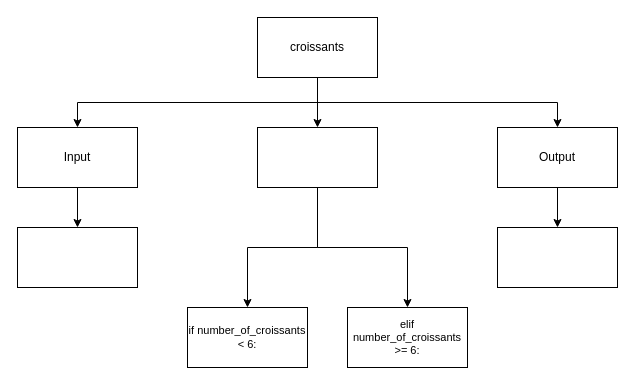
Image size: 635x385. Some labels were removed from this diagram. The centre of each missing label's shape, as x and y in pixels:
get number_of_croissants: pixel 77 257
Process: pixel 317 157
Show answer: pixel 557 257
